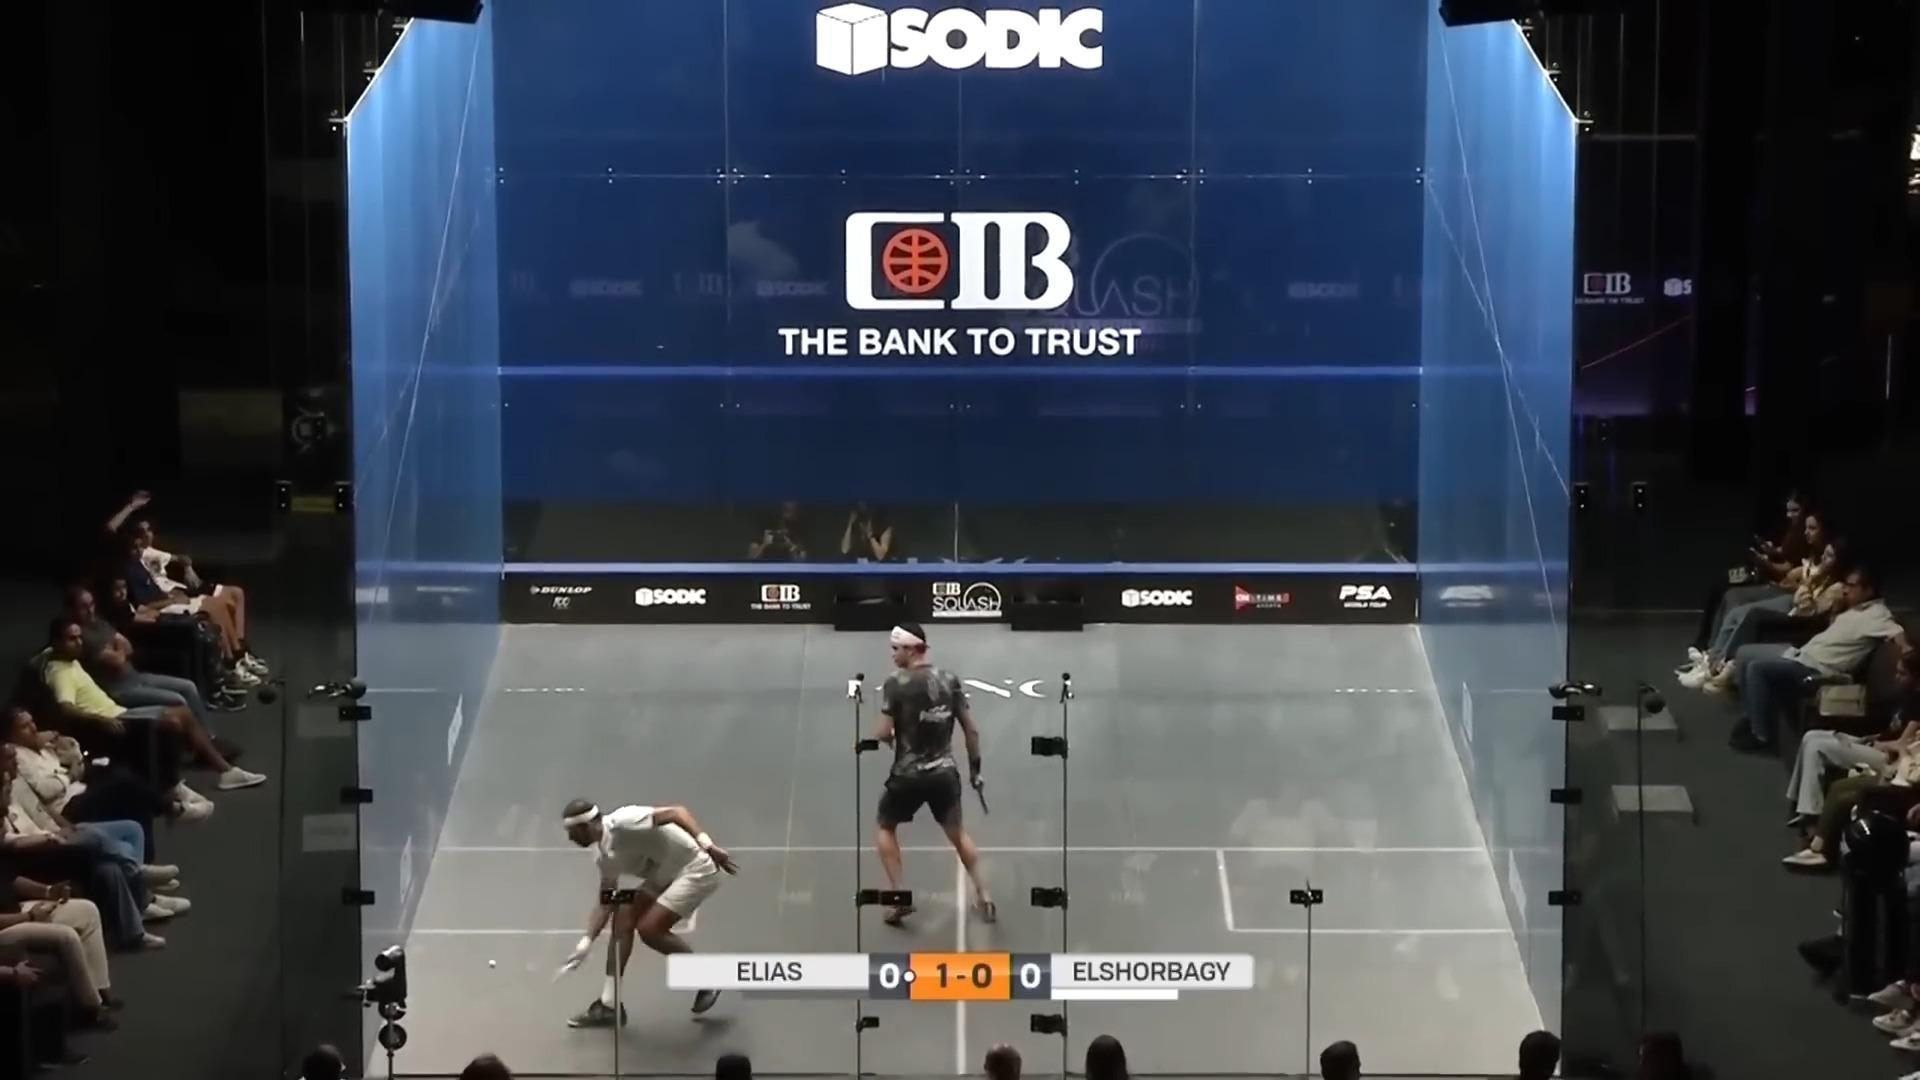Squash-Ball: (479, 949, 508, 978)
